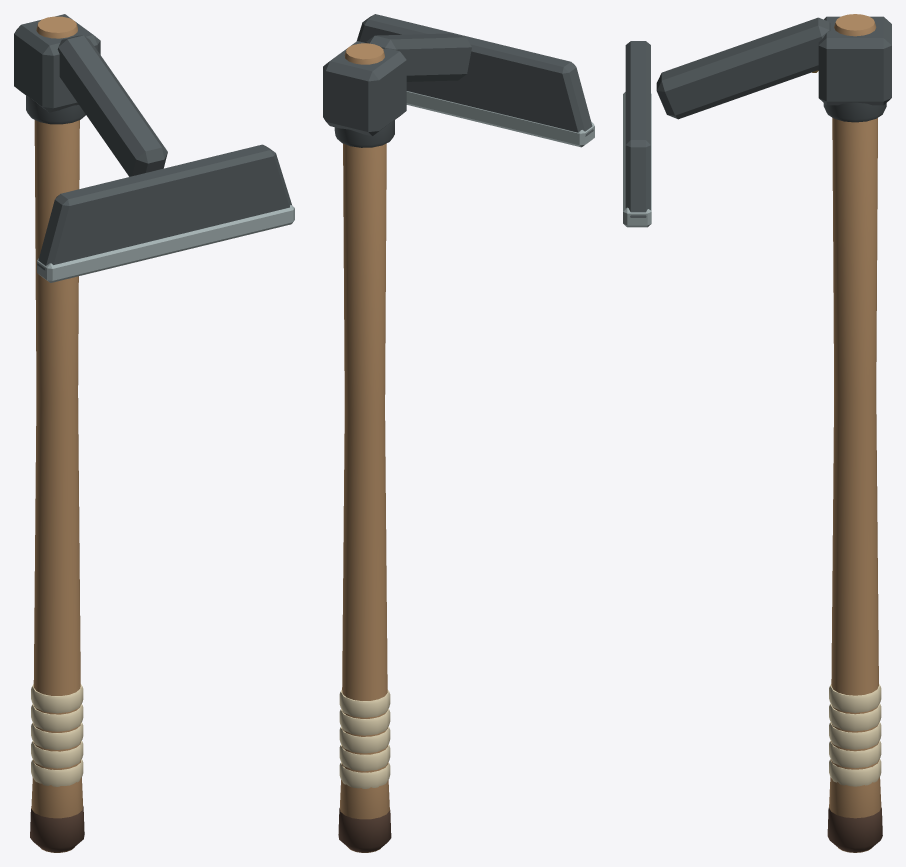
Rendered from tool_hoe.glb.
The picture shows the model from 3 angles, left to right: view 1: azimuth 30°, elevation 25°; view 2: azimuth 150°, elevation 25°; view 3: azimuth 270°, elevation 25°; orthographic projection. The views are drawn at different scales.
Visible parts, largest first — view 1: tool_hoe; view 2: tool_hoe; view 3: tool_hoe.
Part boxes in pixels (<box>): tool_hoe: <box>14,14,294,852</box>; tool_hoe: <box>323,14,594,852</box>; tool_hoe: <box>623,14,891,852</box>.
Size of the model in its own units: 0.2831 by 0.8928 by 0.264.
